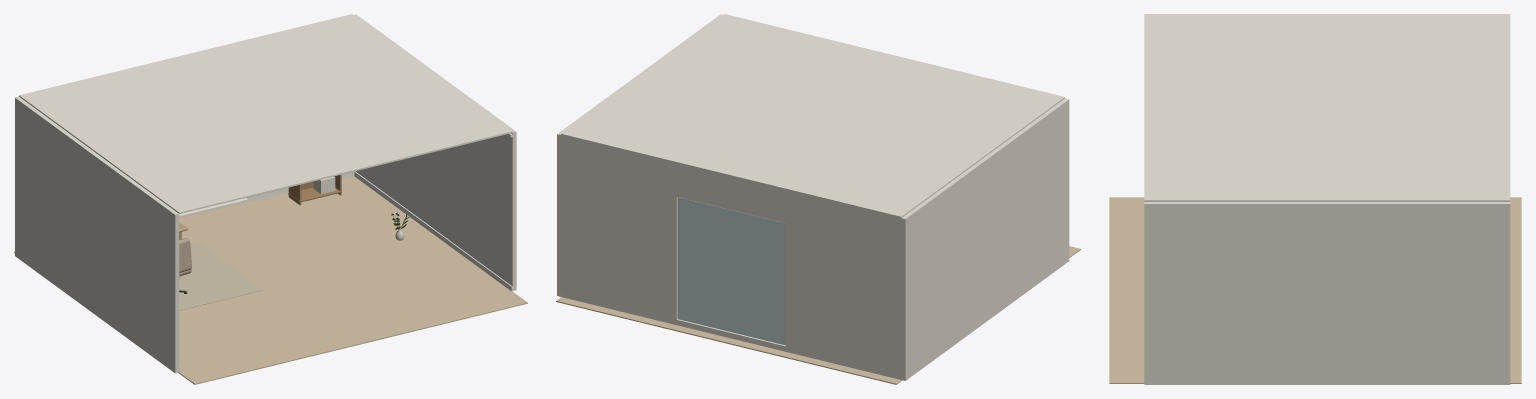
File: office.glb
The picture shows the model from 3 angles, left to right: view 1: azimuth 30°, elevation 25°; view 2: azimuth 150°, elevation 25°; view 3: azimuth 270°, elevation 25°; orthographic projection. The views are drawn at different scales.
Visible parts, largest first — view 1: CEILING_MATERIAL, FLOOR_MATERIAL, WALL_MATERIAL, RUG_FIXED, TRIM, TIMBER, OFFICE_CHAIR_UPHOLSTERY; view 2: WALL_MATERIAL, CEILING_MATERIAL, GLASS_VIEW, FLOOR_MATERIAL; view 3: CEILING_MATERIAL, WALL_MATERIAL, FLOOR_MATERIAL.
Part boxes in pixels (x1,y1,x2,y2): CEILING_MATERIAL: (19, 14, 512, 213); FLOOR_MATERIAL: (14, 176, 527, 384); WALL_MATERIAL: (15, 14, 516, 373); RUG_FIXED: (179, 242, 262, 310); TRIM: (178, 133, 512, 372); TIMBER: (288, 174, 341, 204); OFFICE_CHAIR_UPHOLSTERY: (179, 238, 191, 276); WALL_MATERIAL: (557, 14, 1069, 380); CEILING_MATERIAL: (561, 14, 1064, 217); GLASS_VIEW: (677, 197, 785, 345); FLOOR_MATERIAL: (556, 246, 1080, 384); CEILING_MATERIAL: (1144, 14, 1510, 201); WALL_MATERIAL: (1144, 14, 1510, 384); FLOOR_MATERIAL: (1109, 197, 1521, 383).
Size of the model in its own units: 6.76 by 3.05 by 6.2.
